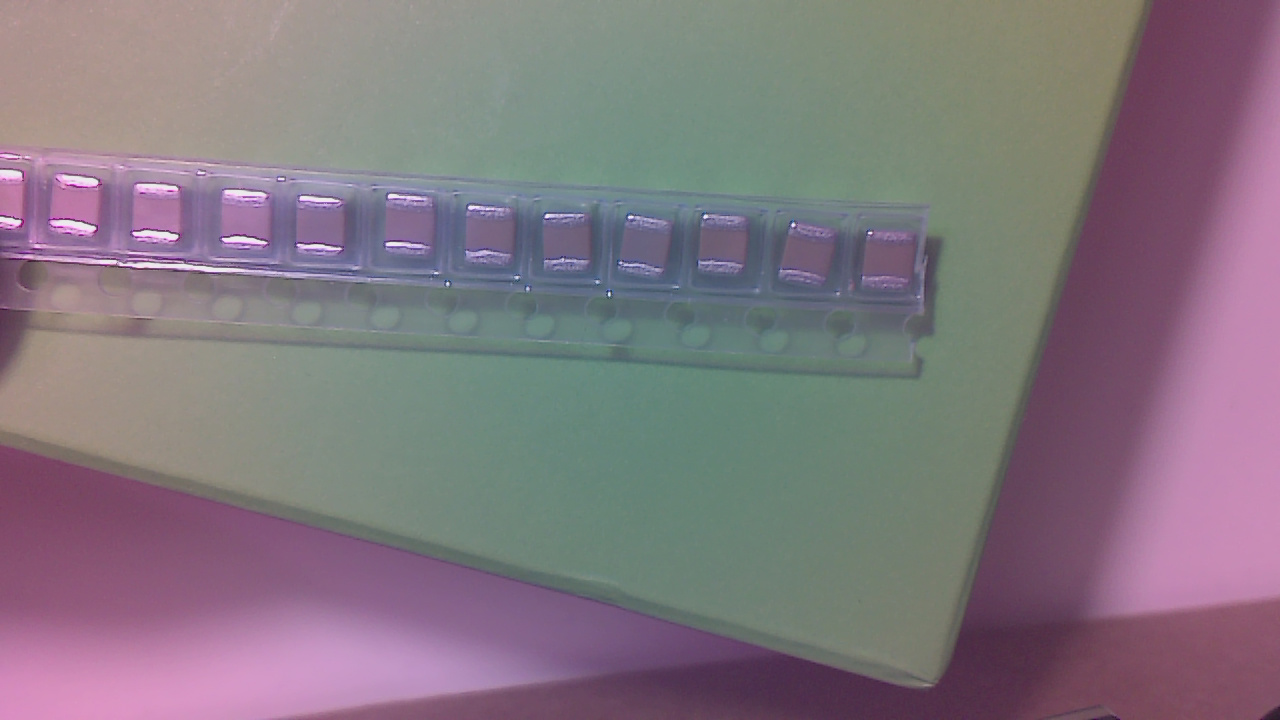Condensator: (387, 196, 442, 263), (467, 206, 522, 272), (52, 175, 106, 240), (622, 220, 681, 279), (543, 214, 600, 275), (134, 184, 190, 245), (784, 229, 839, 290), (222, 193, 276, 253), (702, 217, 753, 280), (865, 236, 916, 297), (298, 199, 348, 258), (6, 168, 33, 236)
